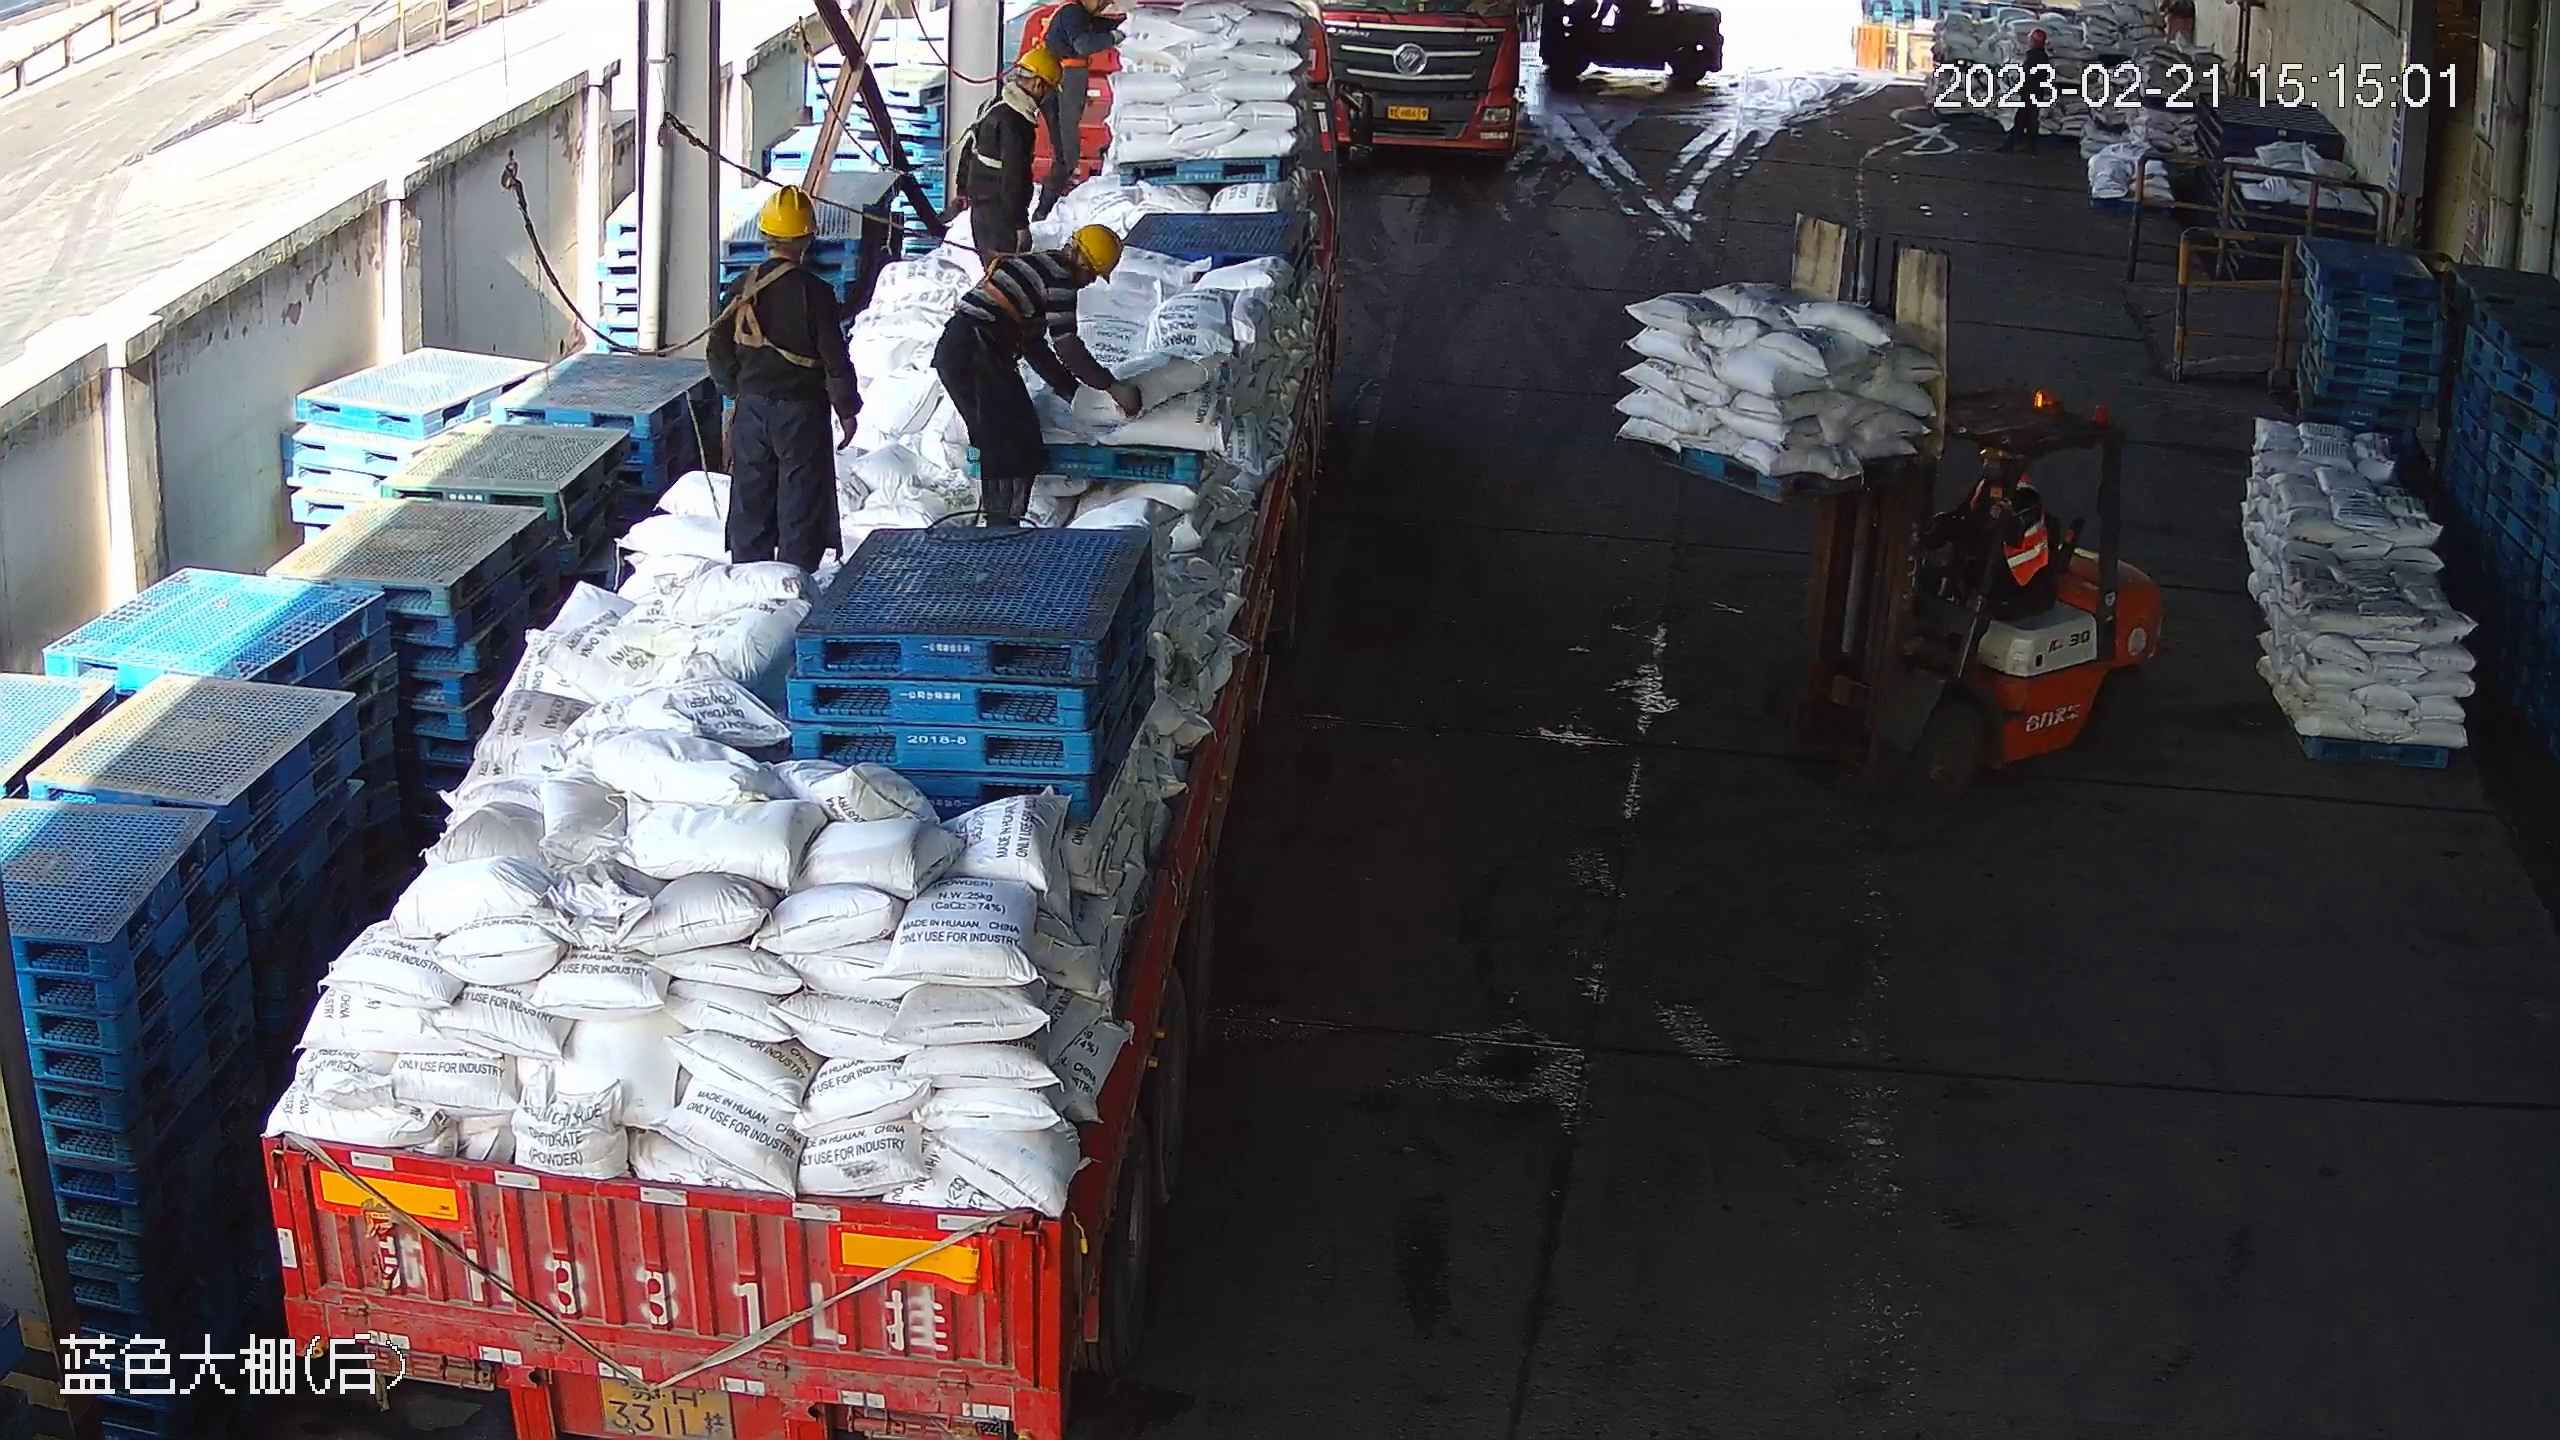belt: (725, 257, 822, 364), (957, 94, 1035, 173), (968, 241, 1042, 318)
head: (725, 187, 844, 328), (990, 227, 1122, 314), (973, 48, 1073, 161)
helmet: (757, 181, 818, 244), (1072, 225, 1125, 288), (1020, 45, 1066, 88)
people: (925, 223, 1129, 529), (707, 177, 857, 575), (946, 49, 1057, 262)
truck: (248, 3, 1320, 1434), (1322, 1, 1540, 176)
